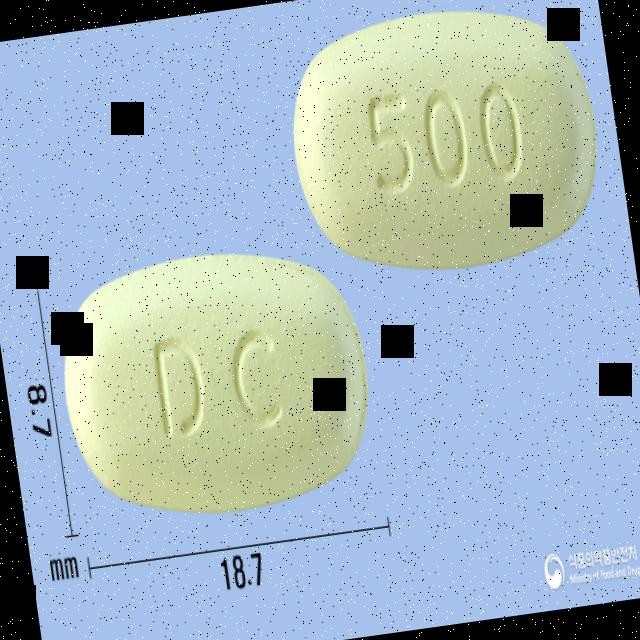Clavix: (47, 227, 390, 542), (274, 0, 617, 295)
